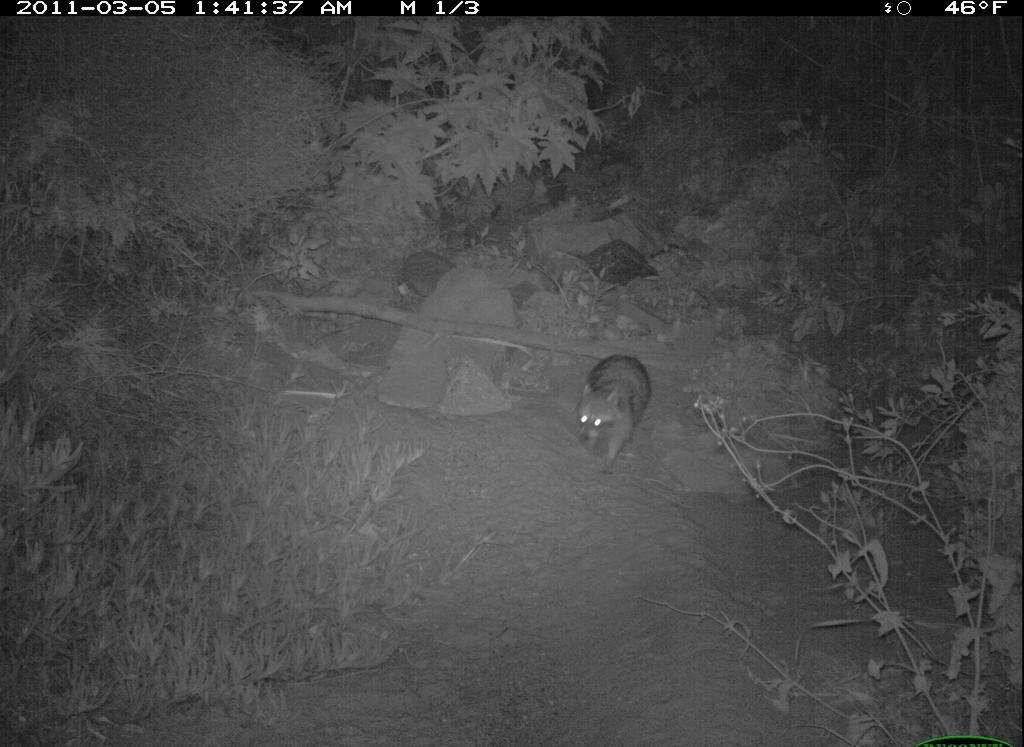raccoon: (575, 351, 657, 477)
